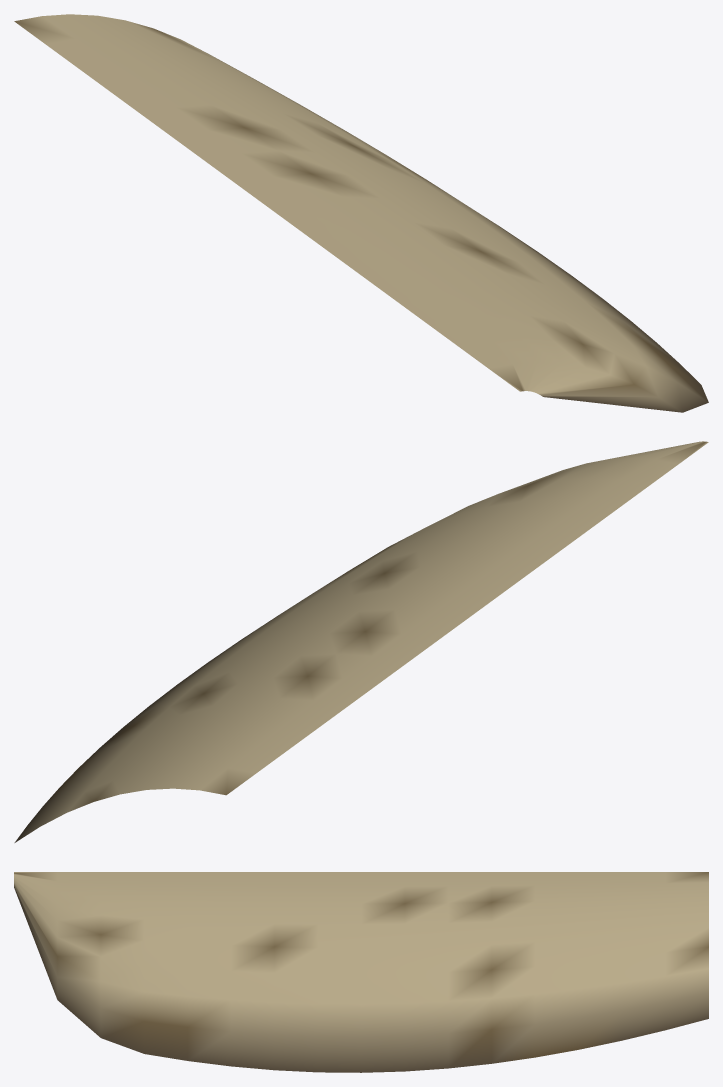
The model's file is Suzumushi_Wing.fbx.
3 renders of one model, top to bottom at view 1: azimuth 30°, elevation 25°; view 2: azimuth 150°, elevation 25°; view 3: azimuth 270°, elevation 25°, orthographic. The views are drawn at different scales.
Parts seen in each view (by area): view 1: Suzumushi_Wing; view 2: Suzumushi_Wing; view 3: Suzumushi_Wing.
Boxes of the visible parts, x1,y1,x2,y2 form: Suzumushi_Wing: (14,14,708,412); Suzumushi_Wing: (14,441,708,842); Suzumushi_Wing: (14,872,708,1072).
Bounding box in the file's own units: 0.16 × 0.072 × 0.46.
